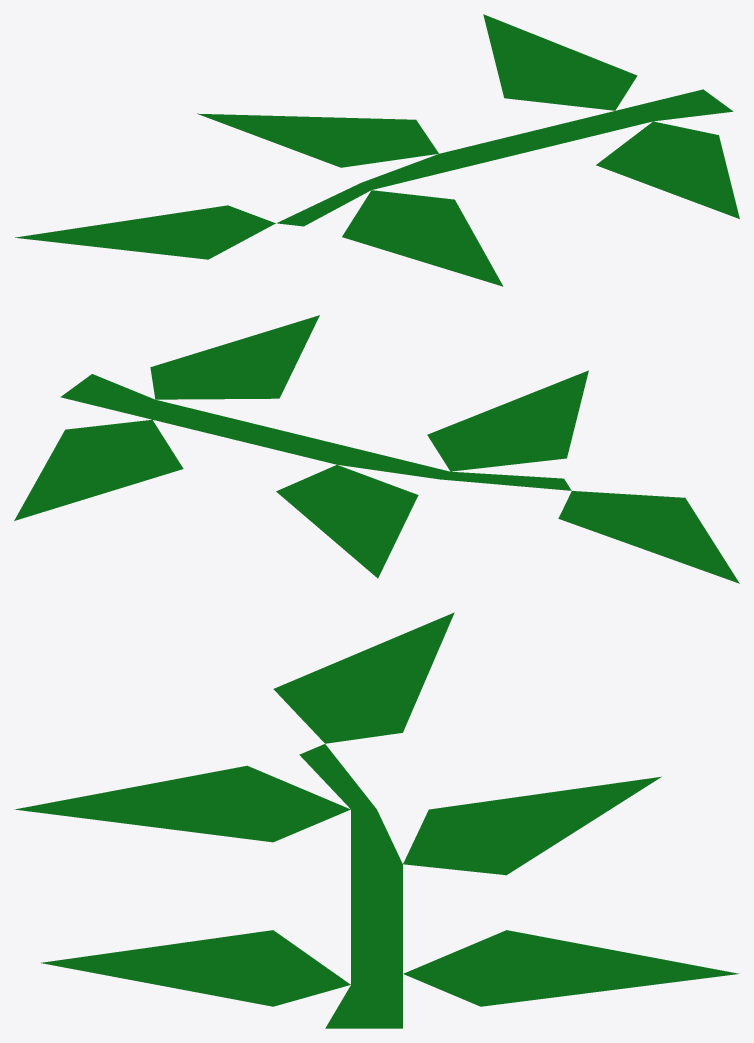
File: inv_equa_leaves.obj
The picture shows the model from 3 angles, top to bottom: view 1: azimuth 30°, elevation 25°; view 2: azimuth 150°, elevation 25°; view 3: azimuth 270°, elevation 25°; orthographic projection. The views are drawn at different scales.
Bounding box in the file's own units: 0.2969 × 0 × 0.2188.
